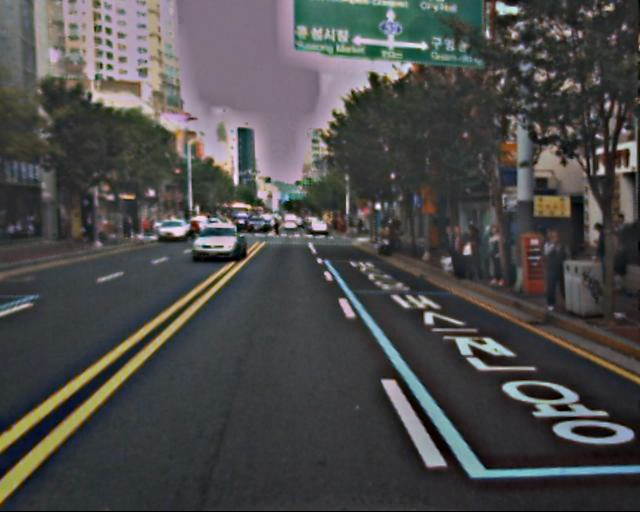person: (538, 227, 572, 309), (602, 214, 631, 285), (585, 221, 612, 287), (484, 227, 509, 289), (462, 221, 486, 279), (447, 226, 468, 276), (443, 225, 461, 270)
